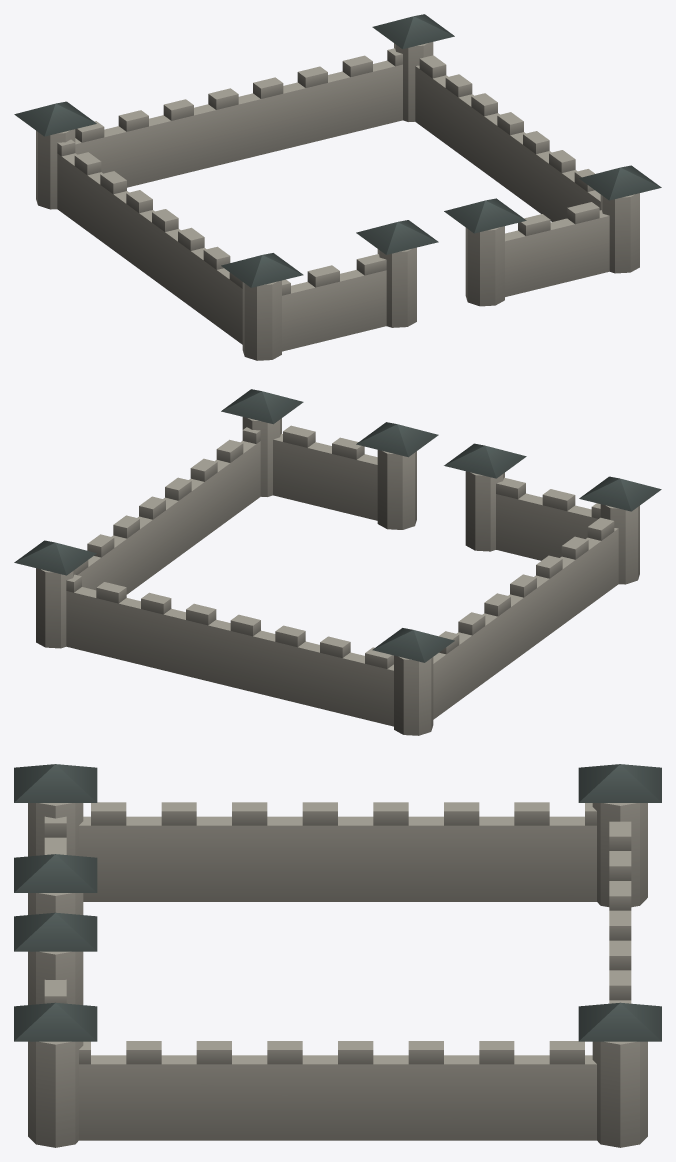
File: wall_EA_2.glb
3 renders of one model, top to bottom at view 1: azimuth 30°, elevation 25°; view 2: azimuth 150°, elevation 25°; view 3: azimuth 270°, elevation 25°, orthographic. The views are drawn at different scales.
Parts seen in each view (by area): view 1: Body; view 2: Body; view 3: Body.
Boxes of the visible parts, left/top/right/bottom form: Body: left=14, top=14, right=661, bottom=360; Body: left=14, top=389, right=661, bottom=735; Body: left=14, top=764, right=661, bottom=1147.
Size of the model in its own units: 6.54 by 1.49 by 6.54.
Materials: 1 (1 with a texture image).
